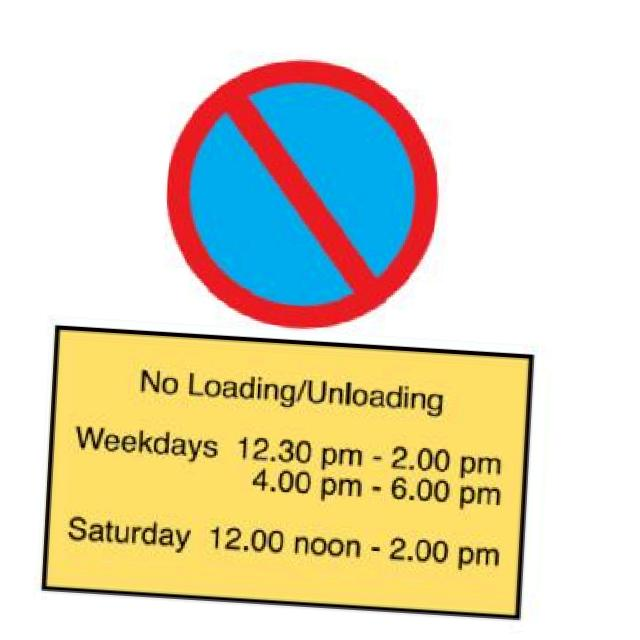forb_stopping: (169, 57, 439, 327)
